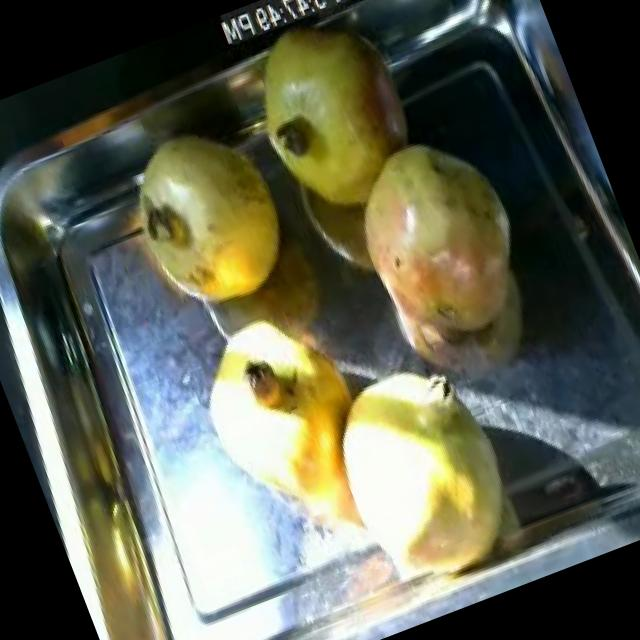fruit: (292, 328, 556, 618), (324, 104, 556, 372), (172, 283, 402, 537), (221, 0, 440, 233), (103, 103, 311, 334)
